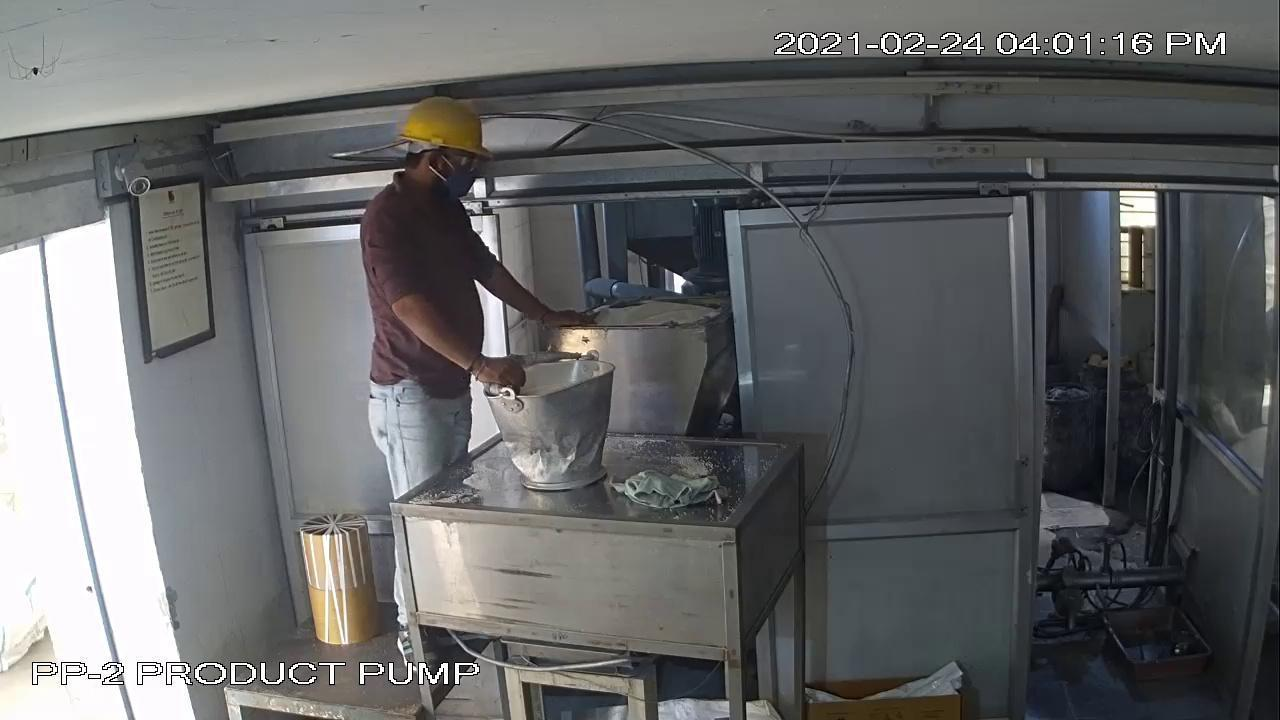helmet: (391, 96, 495, 167)
